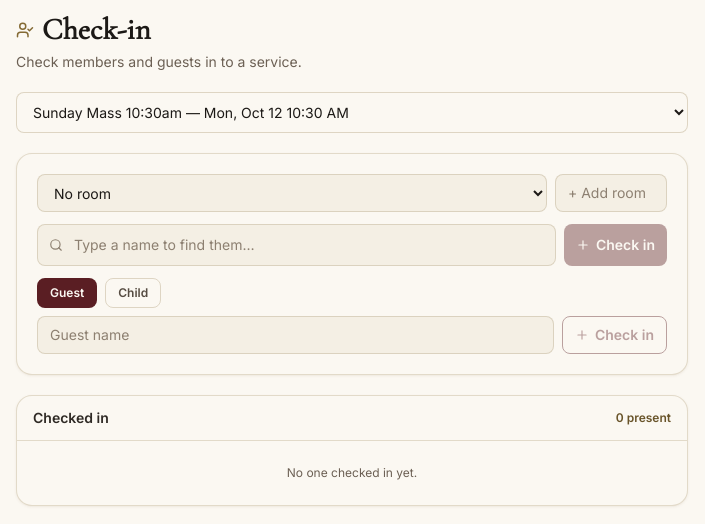
Test: Check-in stale roster race › a late roster for Mass A does not replace Mass B after the desk switches
// Switch to Mass B before A's roster returns.
Select "Sunday Mass 10:30am — Mon, Oct 5 10:30 AM" in the dropdown named "choose a service": (352, 112) left=16, top=92, right=688, bottom=133
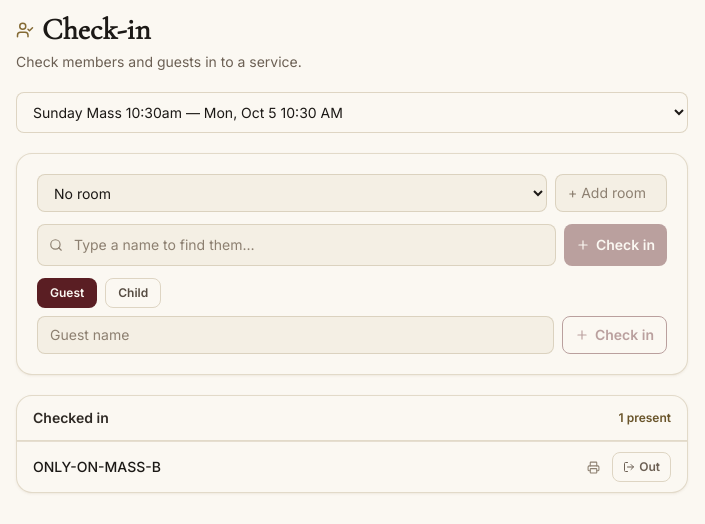
Expected: the link "ONLY-ON-MASS-B" is shown, left=33, top=458, right=161, bottom=475
